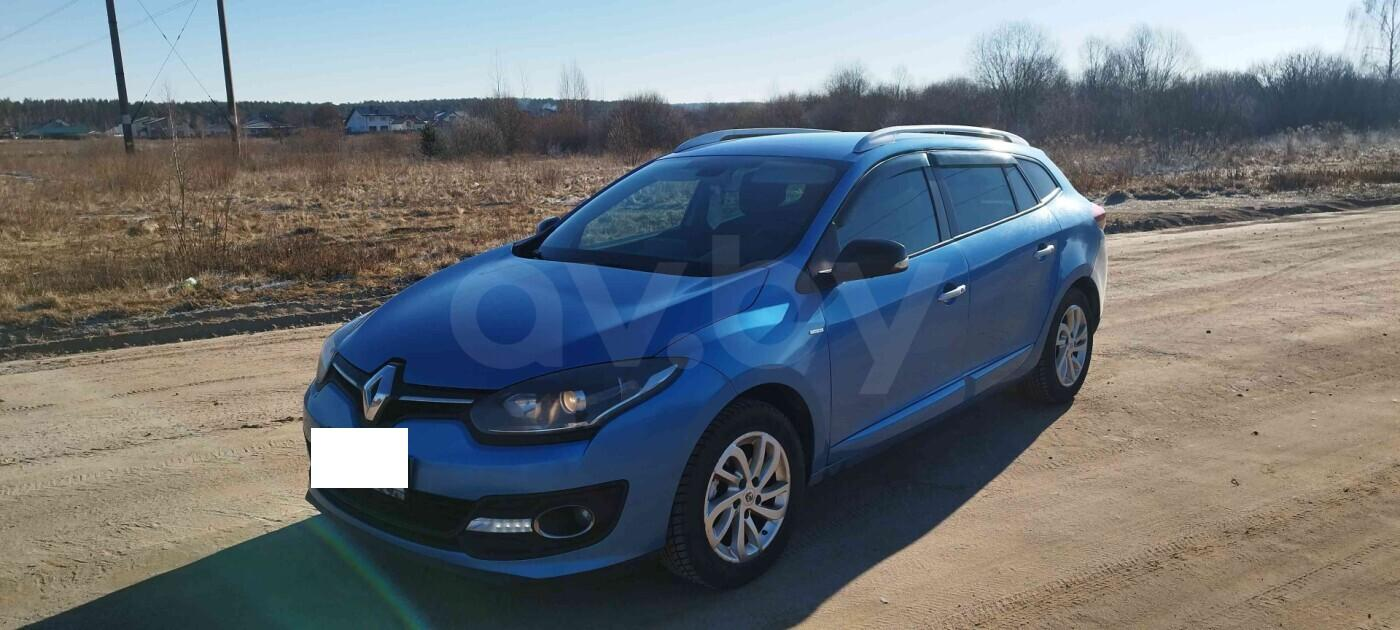Megane_2014-2016: (300, 117, 1104, 585)
